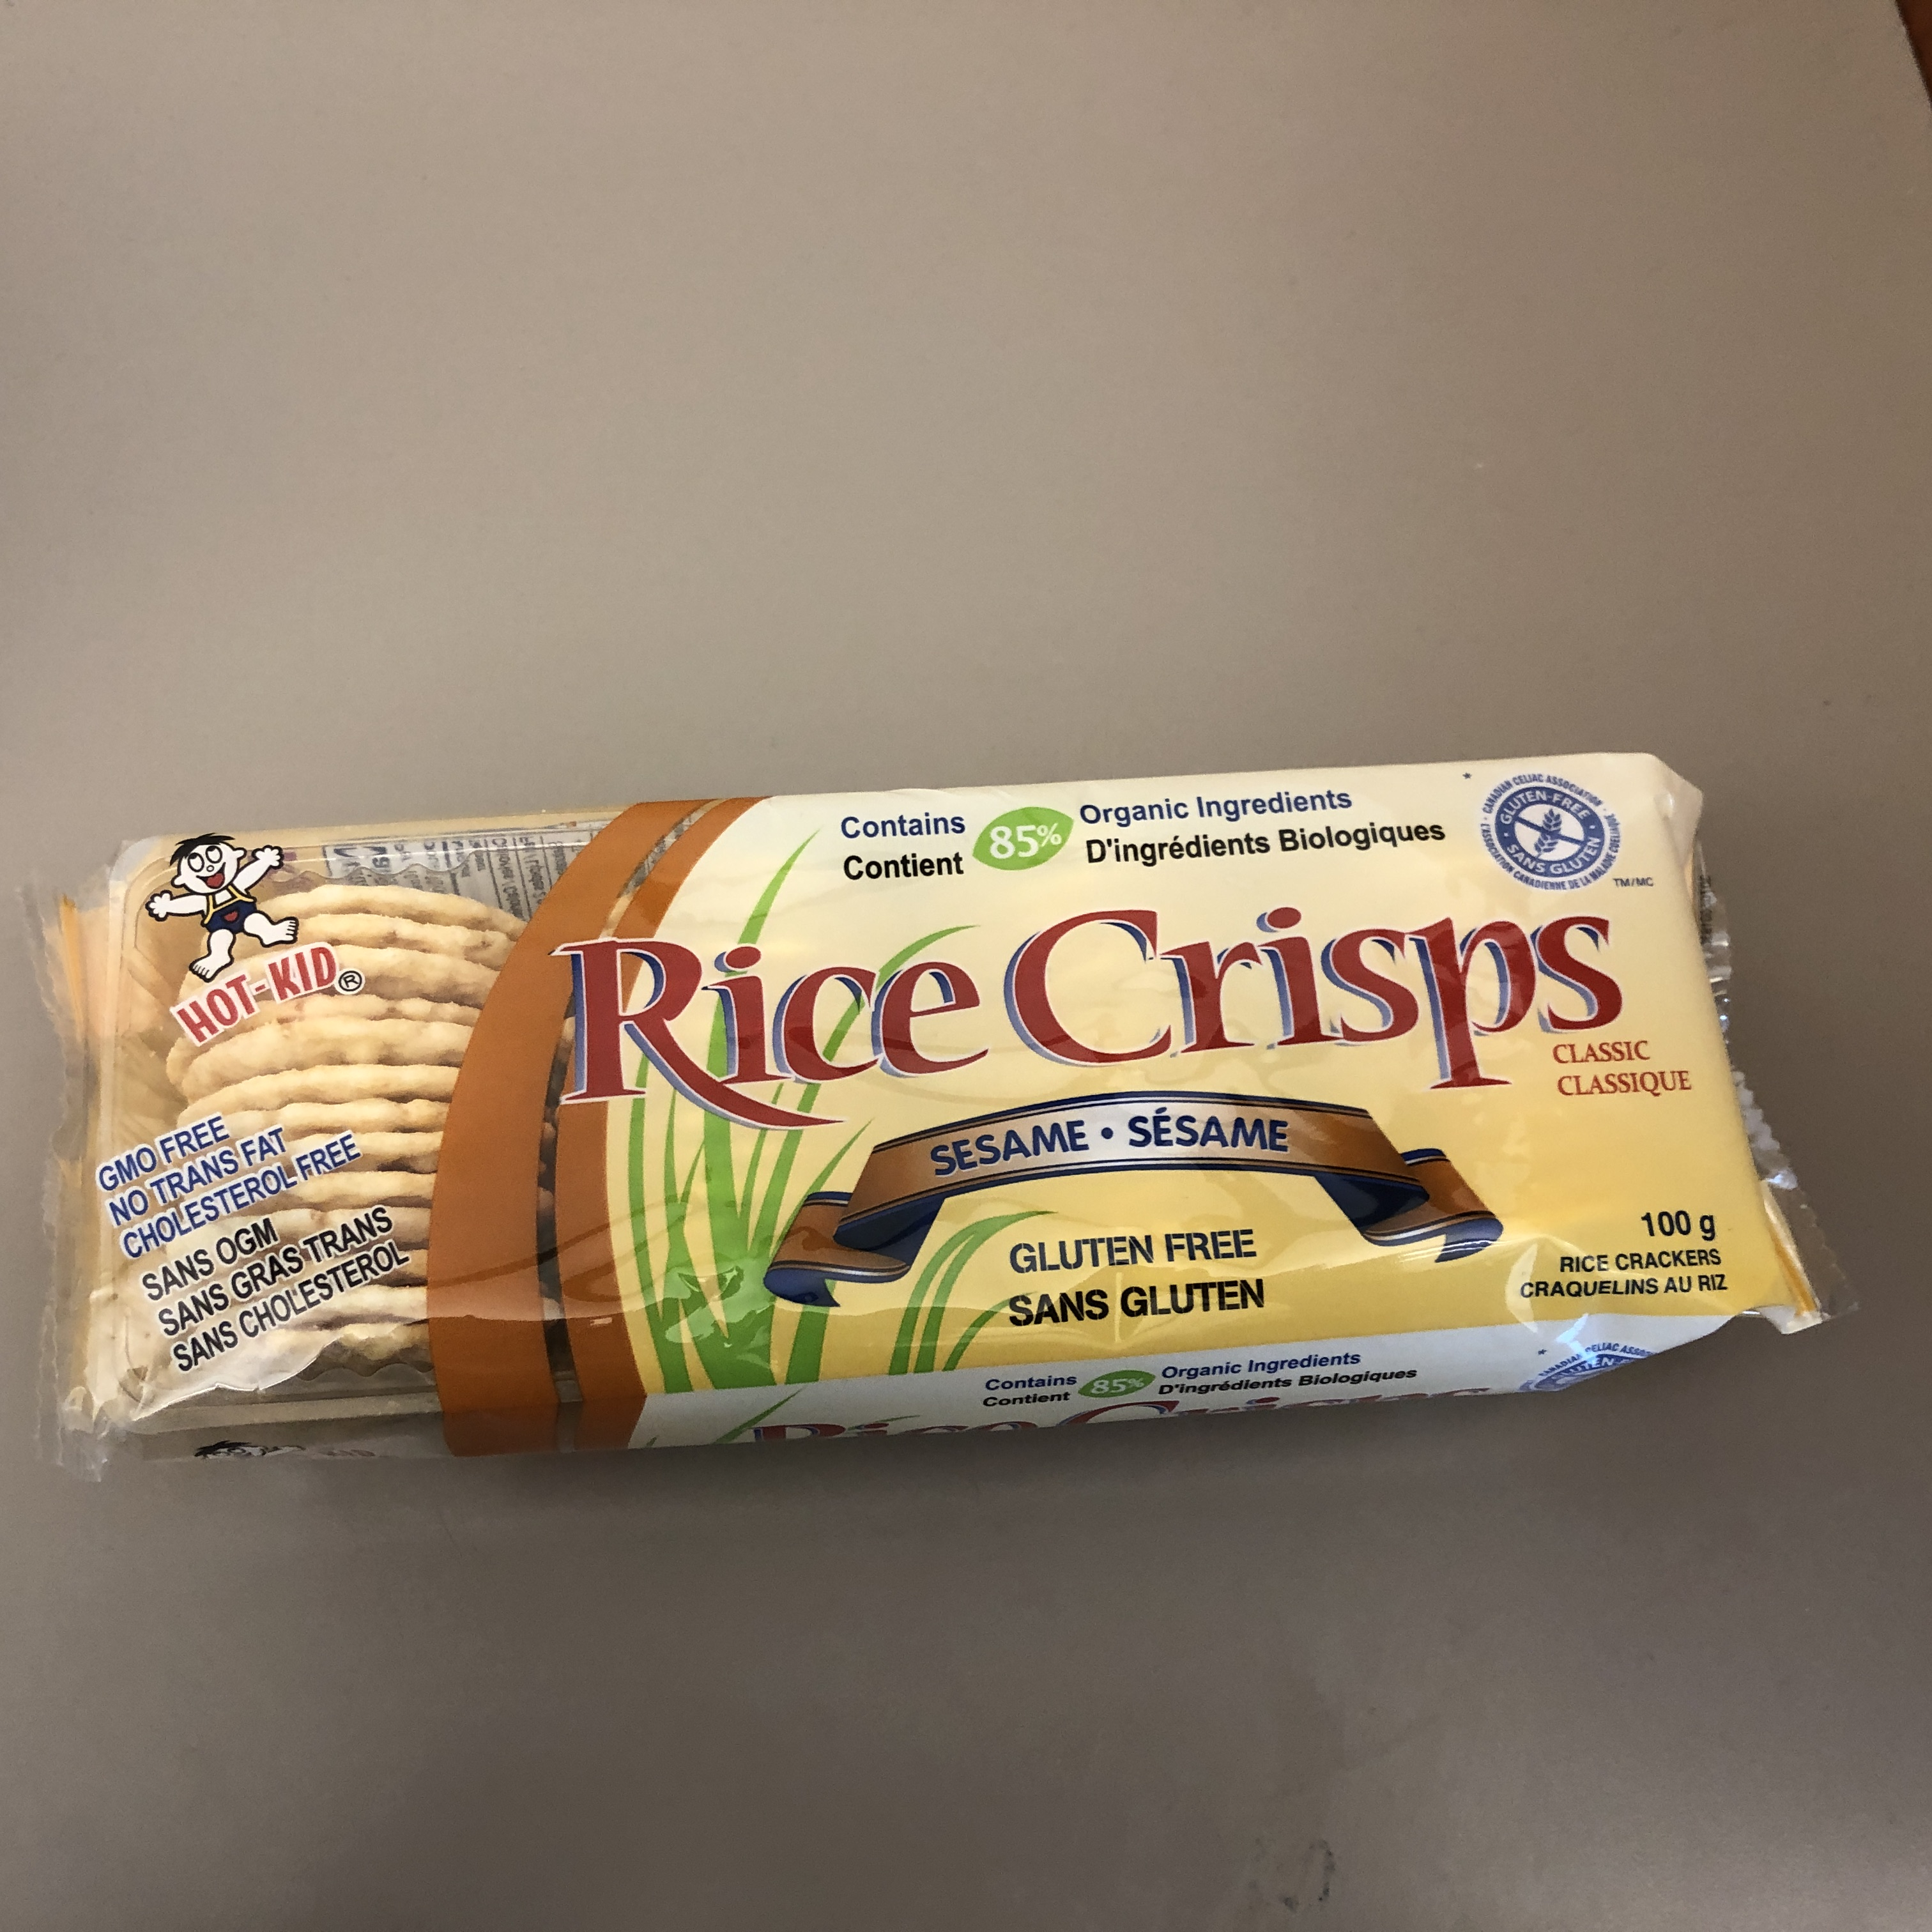hot_kid_rice_crisps_sesame: (80, 770, 1717, 1457)
